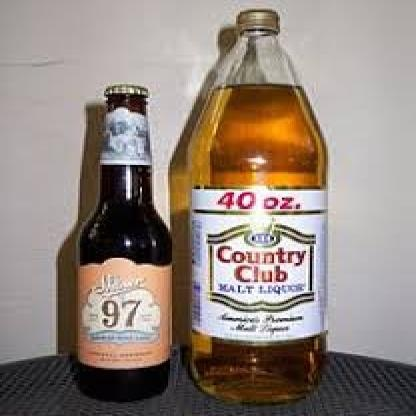trash: (169, 9, 326, 402), (78, 83, 170, 400)
